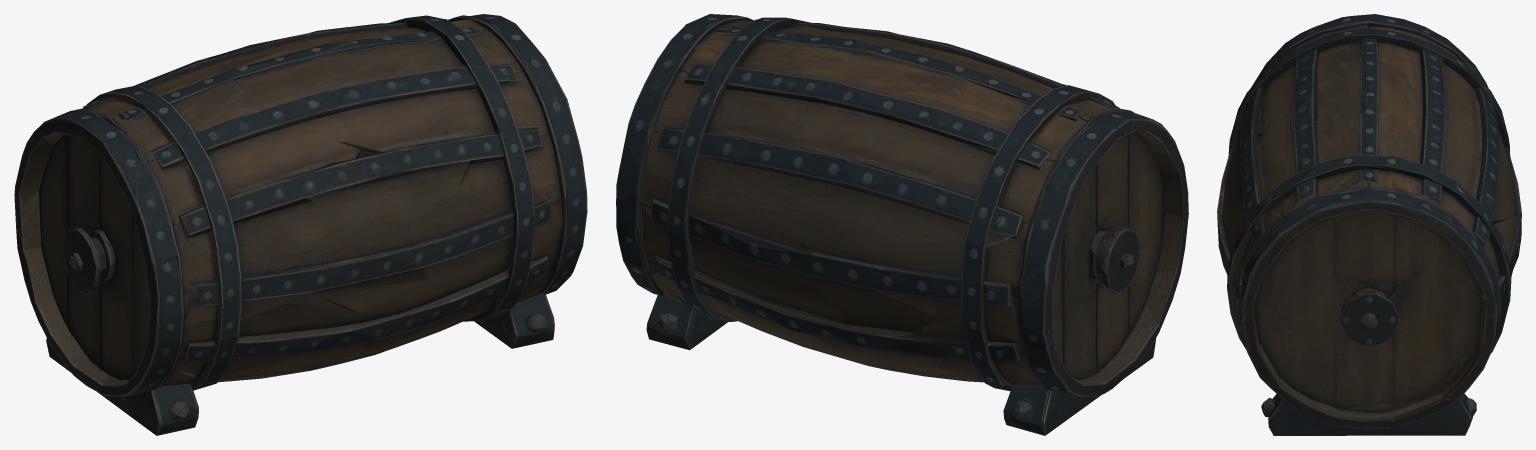
File: barrel.glb
The picture shows the model from 3 angles, left to right: view 1: azimuth 30°, elevation 25°; view 2: azimuth 150°, elevation 25°; view 3: azimuth 270°, elevation 25°; orthographic projection. The views are drawn at different scales.
Bounding box in the file's own units: 1.9 × 1.18 × 1.23.
Materials: 1 (1 with a texture image).
